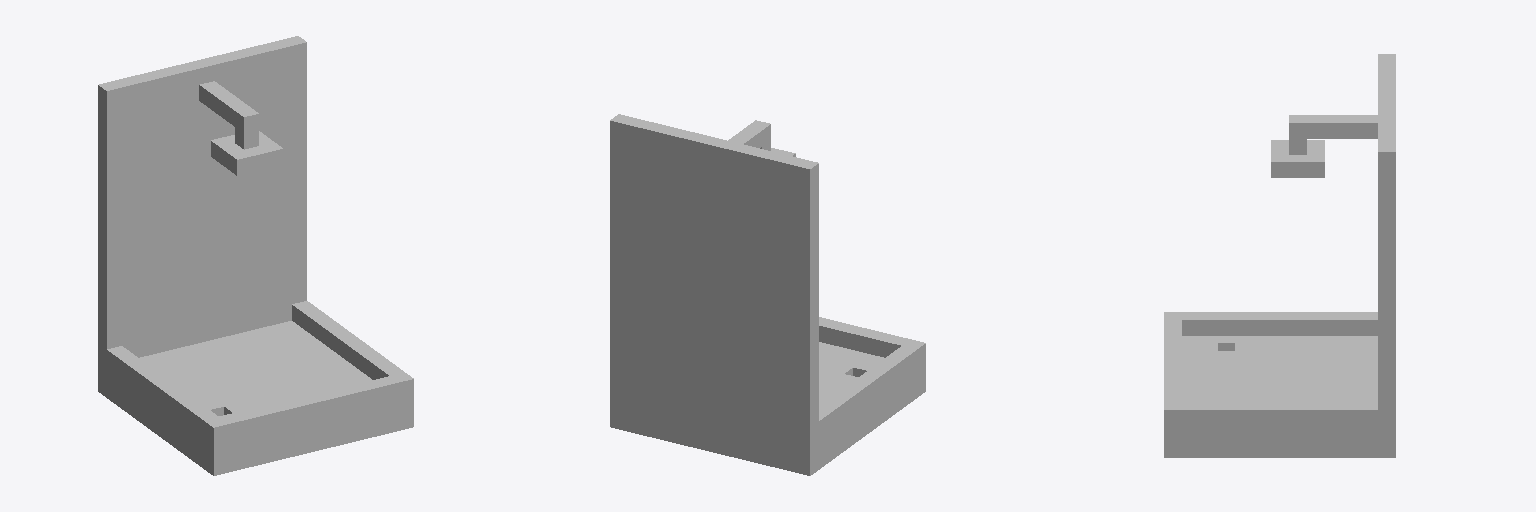
3 views of the same model, side by side, from view 1: azimuth 30°, elevation 25°; view 2: azimuth 150°, elevation 25°; view 3: azimuth 270°, elevation 25° (orthographic).
Visible parts, largest first — view 1: object 1; view 2: object 1; view 3: object 1.
Part boxes in pixels (x1,y1,x2,y2): object 1: (98, 36, 413, 475); object 1: (610, 114, 925, 475); object 1: (1164, 54, 1395, 457).
Size of the model in its own units: 1.3 by 1.9 by 1.3.
Materials: 1 (1 with a texture image).